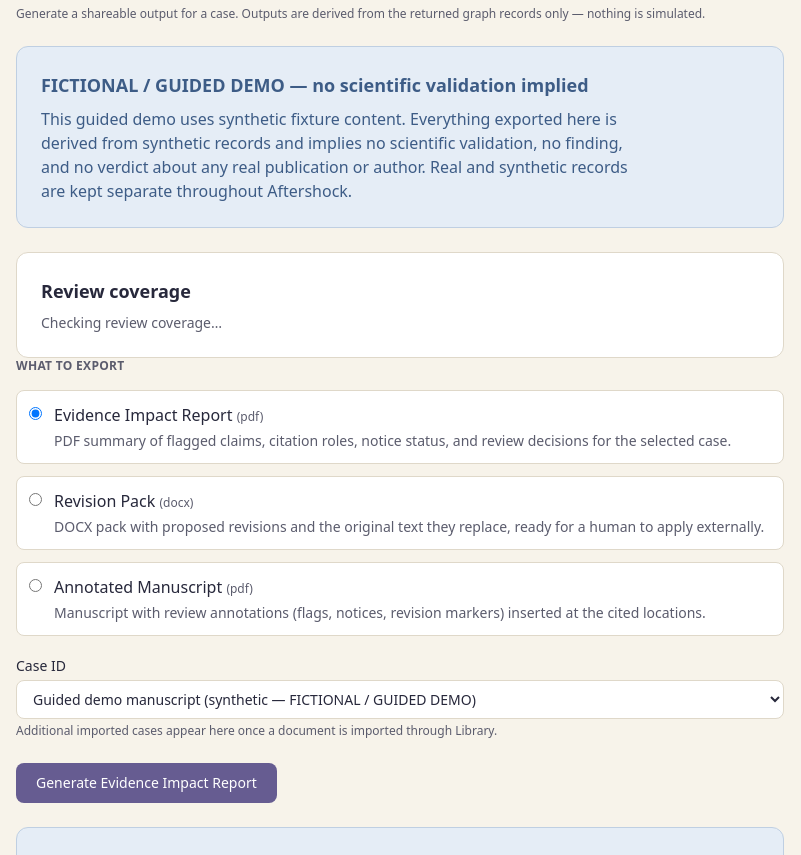
it: ExportPage › shows the exact failure with retry and fabricates no file
The width and height of the screenshot is (801, 855).
Click the button with test id "export-generate": (146, 783) [16, 763, 277, 803]
(page scrolled)
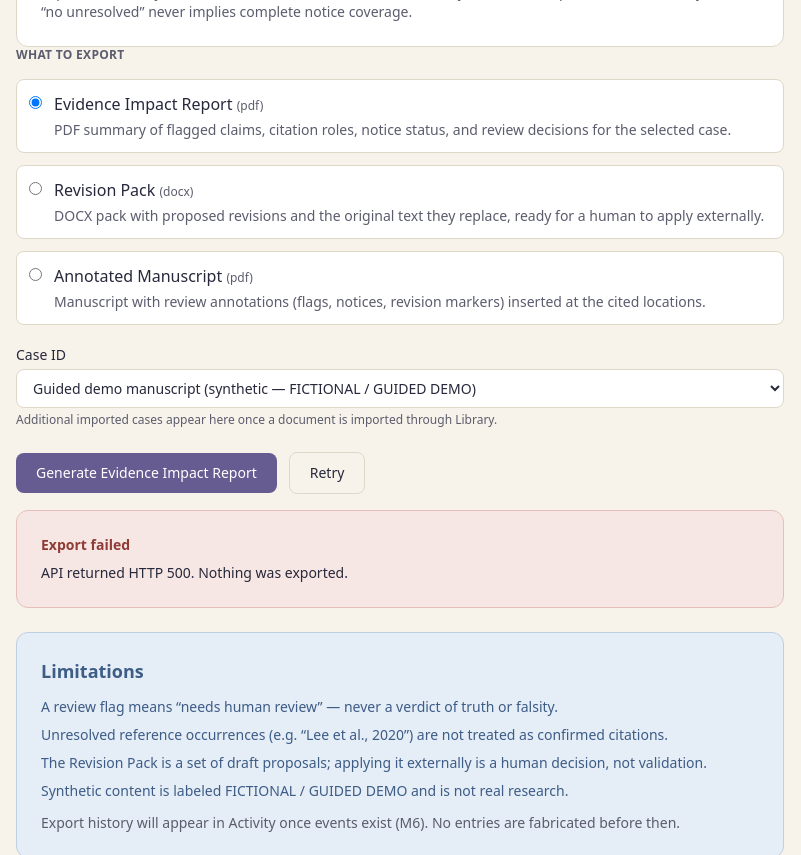
Expected: the text with test id "export-error-detail" shows "HTTP 500", [41, 563, 348, 582]
Click the button with test id "export-retry": (327, 473) [289, 452, 365, 494]
(page scrolled)
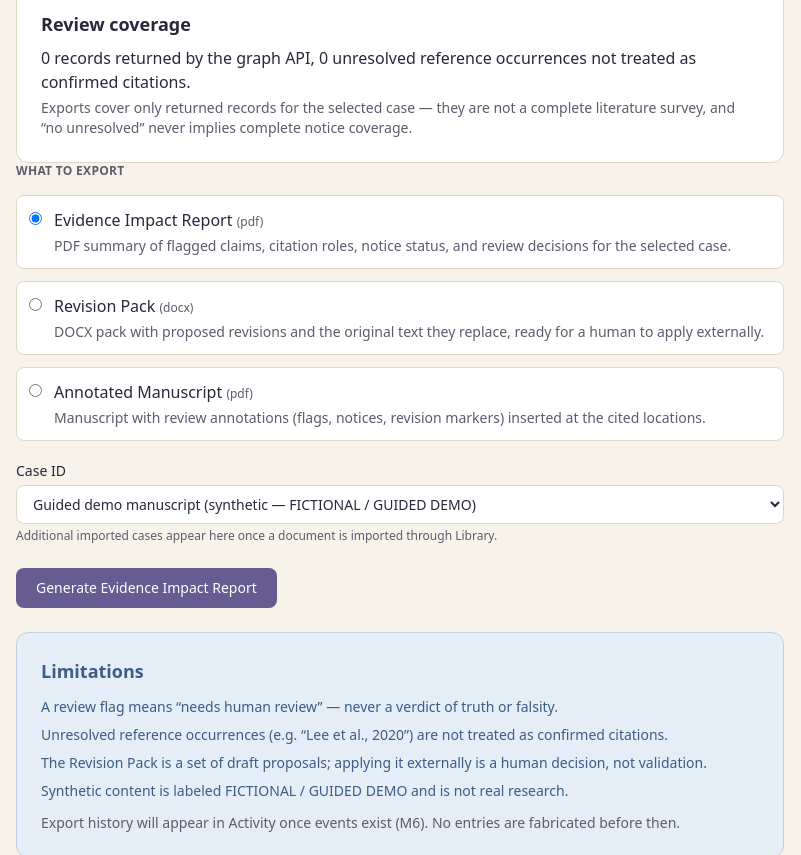
Expected: the element with test id "export-error" is gone
Click the button with test id "export-generate": (146, 588) [16, 568, 277, 608]
(page scrolled)
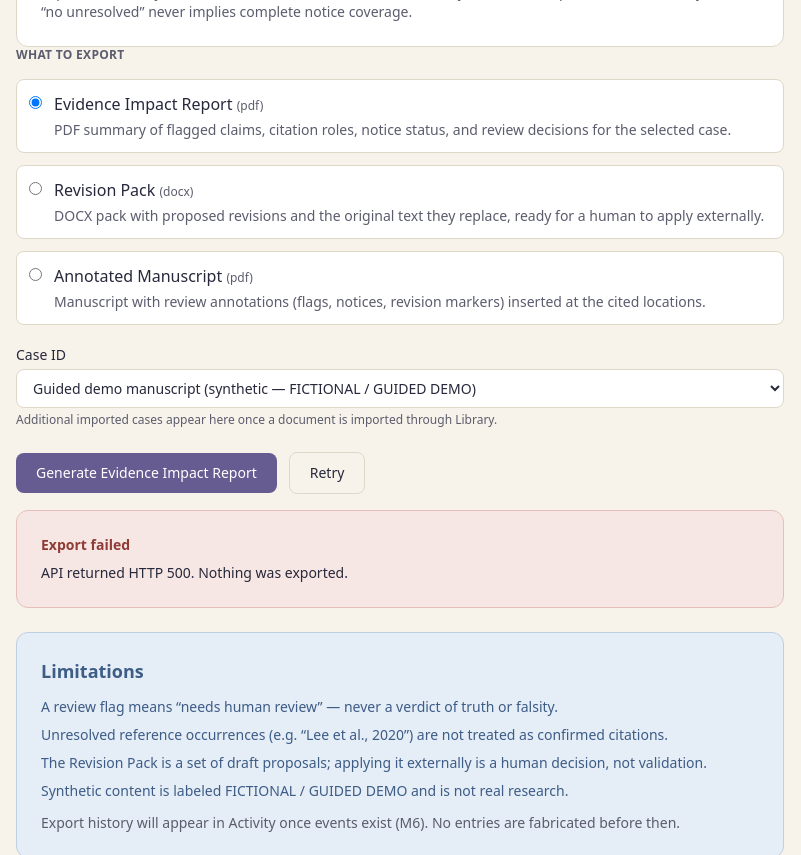
Expected: the text with test id "export-error-detail" shows "HTTP 500", [41, 563, 348, 582]
